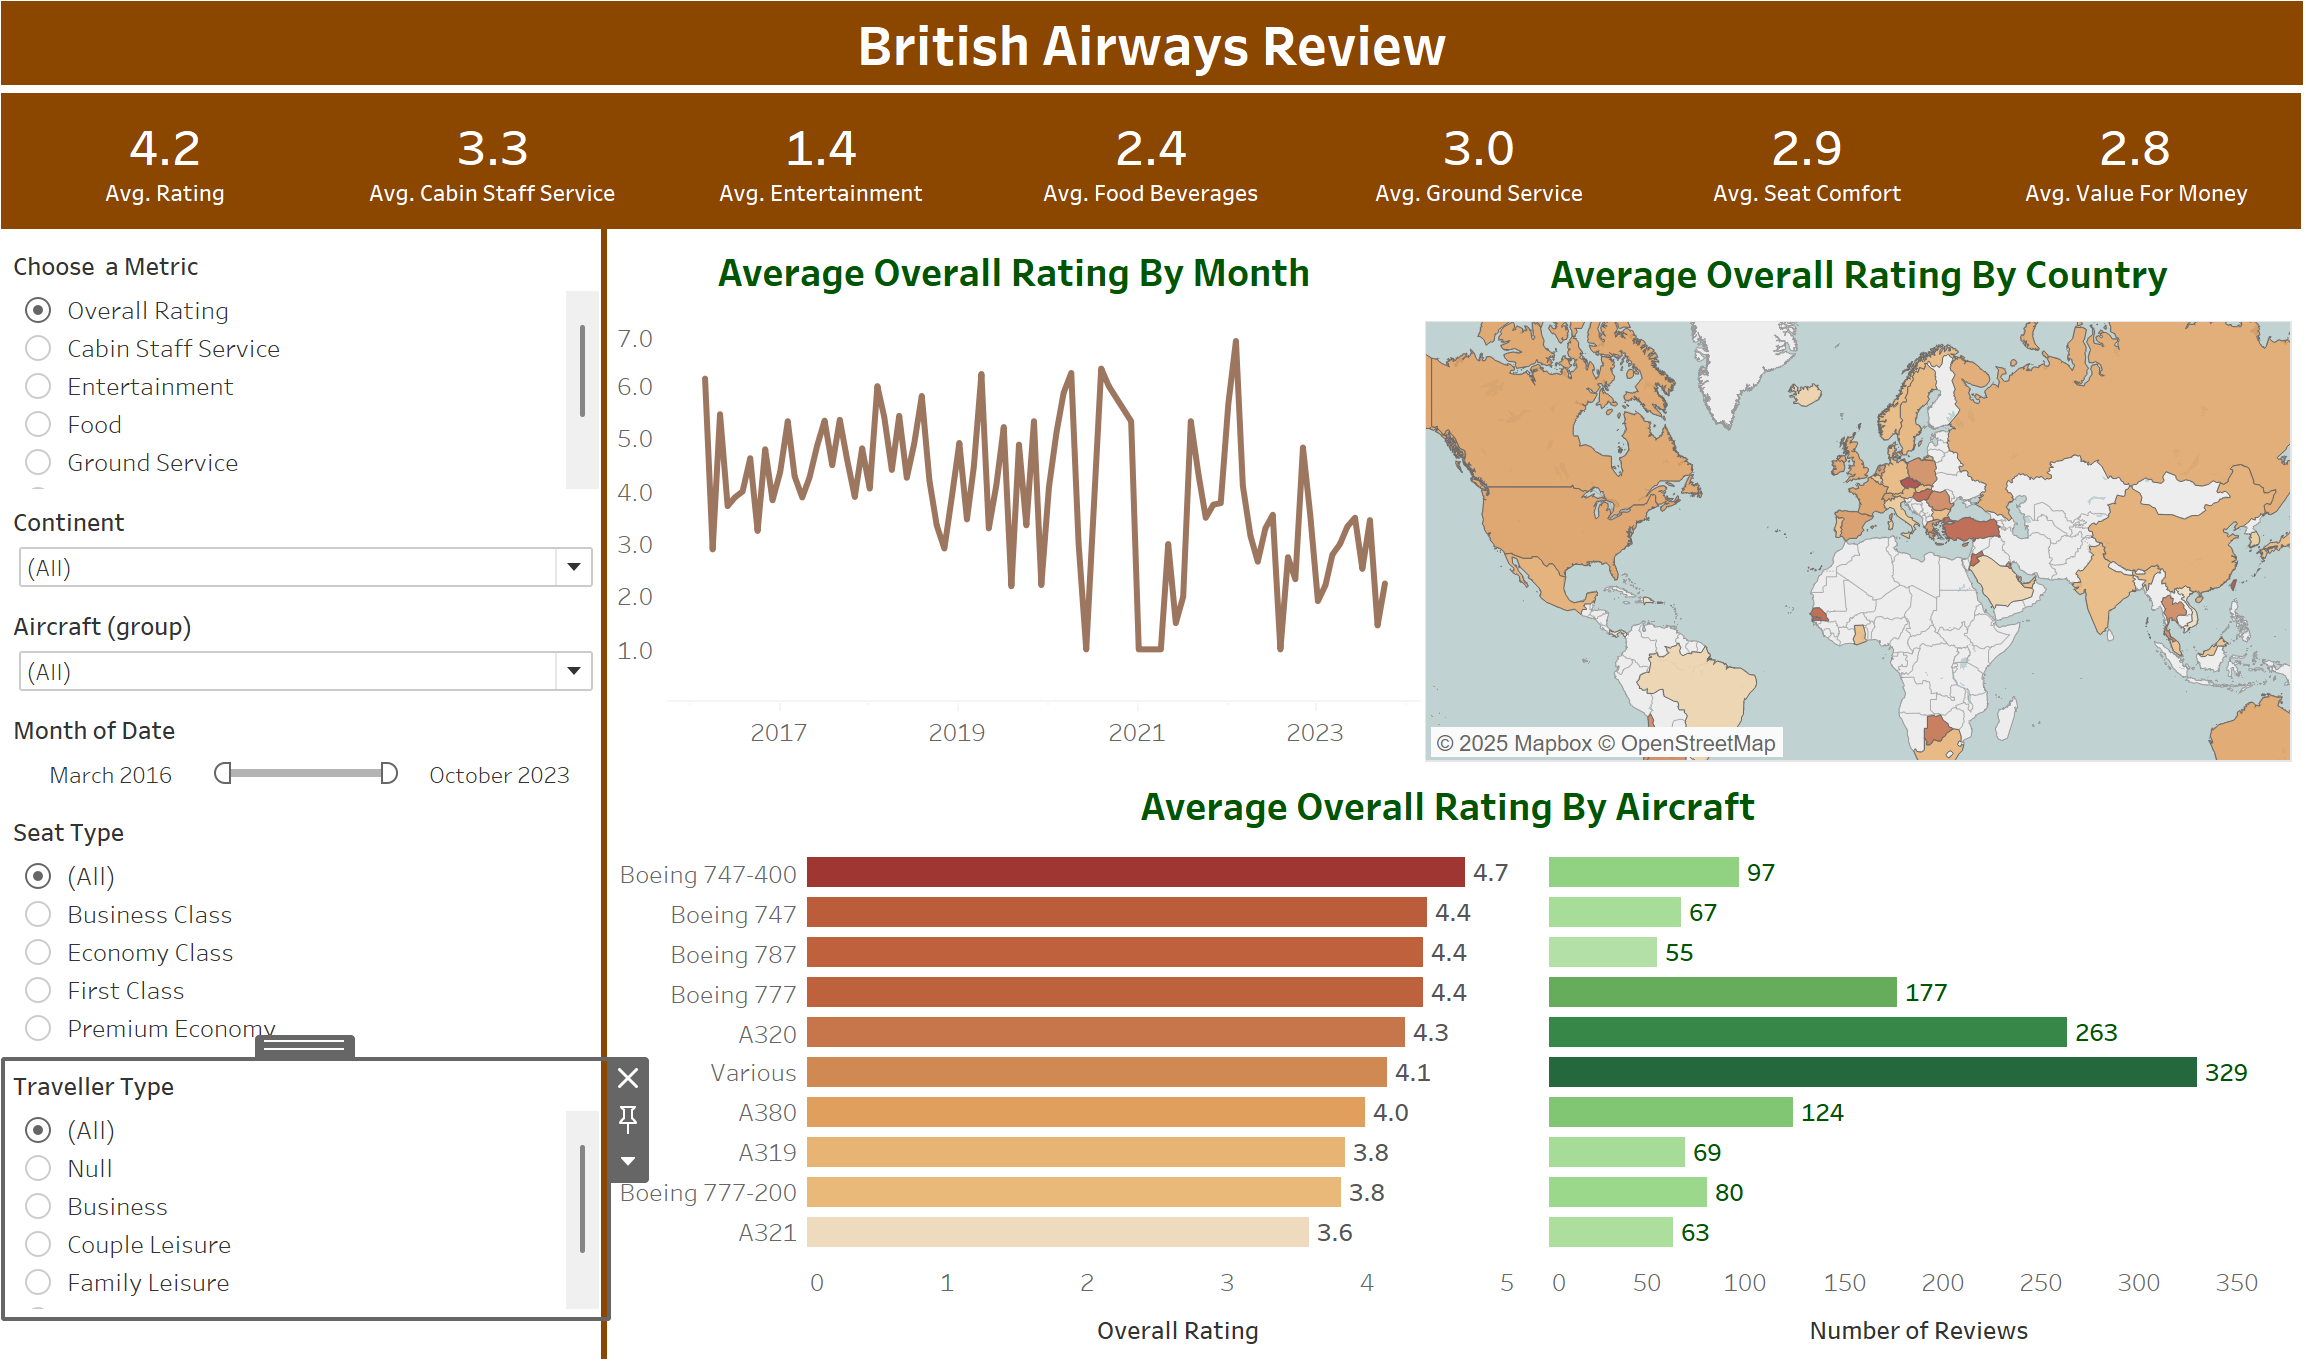

The page's visual inventory and layout, read from the dashboard file:
{"tool":"tableau","page":{"name":"Dashboard 1","canvas":[1000,1000],"units":"permille","ordinal":0},"visuals":[{"type":"text","box":[0.9,8.7,994.8,61.1]},{"type":"worksheet","title":"Summery","mark":"Automatic","box":[0.9,75.6,993.9,98.8]},{"type":"blank","box":[260.2,174.4,2.7,821.2]},{"type":"worksheet","title":"Line Chart","mark":"Automatic","rows":["Calculation_333547914972569601"],"cols":["date"],"box":[262.8,180.2,351.8,380.8]},{"type":"worksheet","title":"Map","mark":"Automatic","box":[616.2,181.7,375.1,380.8]},{"type":"parameter","param":"[Parameters].[Parameter 1]","box":[2.7,183.1,260.2,176.8]},{"type":"filter","title":"Map","param":"[federated.1ptslkq0xc6fsl110tfgq0jw5psg].[none:Continent:nk]","box":[2.7,360,260.2,75.6]},{"type":"filter","title":"Map","param":"[federated.1ptslkq0xc6fsl110tfgq0jw5psg].[Aircraft (group)]","box":[2.7,435.6,260.2,75.6]},{"type":"filter","title":"Map","param":"[federated.1ptslkq0xc6fsl110tfgq0jw5psg].[tmn:date:qk]","box":[2.7,511.1,260.2,100.3]},{"type":"worksheet","title":"Bar Chart","mark":"Automatic","cols":["Calculation_333547914972569601","ba_reviews.csv_2D200B4EA5114F1E81E26C731A1B7A18"],"box":[262.9,568.3,727.2,428.8]},{"type":"filter","title":"Map","param":"[federated.1ptslkq0xc6fsl110tfgq0jw5psg].[none:seat_type:nk]","box":[2.7,611.4,260.2,176.8]},{"type":"filter","title":"Map","param":"[federated.1ptslkq0xc6fsl110tfgq0jw5psg].[none:traveller_type:nk]","box":[2.7,788.3,260.2,176.8]}]}

Visuals, with their boxes on the dashboard's canvas, which has no fixed pixel size, in thousandths of its width and height (x1, y1, x2, y2). These are canvas units, not pixel positions in the 2306x1361 screenshot, which may show the page scaled, cropped or inside an application window:
text: box(1, 9, 996, 70)
"Summery" worksheet: box(1, 76, 995, 174)
blank: box(260, 174, 263, 996)
"Line Chart" worksheet: box(263, 180, 615, 561)
"Map" worksheet: box(616, 182, 991, 562)
parameter: box(3, 183, 263, 360)
"Map" filter: box(3, 360, 263, 436)
"Map" filter: box(3, 436, 263, 511)
"Map" filter: box(3, 511, 263, 611)
"Bar Chart" worksheet: box(263, 568, 990, 997)
"Map" filter: box(3, 611, 263, 788)
"Map" filter: box(3, 788, 263, 965)
